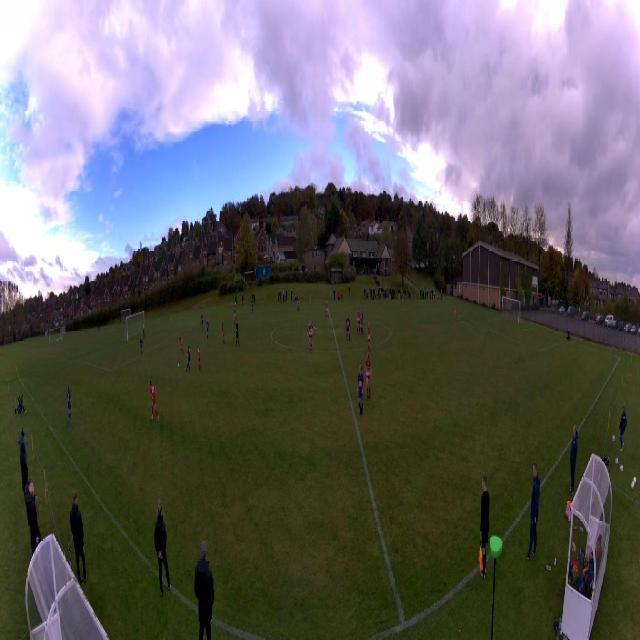ball: (178, 363, 180, 368)
player: (355, 365, 365, 416), (149, 380, 160, 422), (365, 350, 373, 400), (307, 321, 317, 351), (67, 384, 72, 425), (197, 345, 202, 374), (356, 308, 361, 335), (346, 315, 351, 340), (186, 345, 190, 372), (236, 321, 240, 348), (360, 308, 364, 335), (367, 322, 371, 349), (179, 333, 184, 354), (221, 324, 225, 344), (200, 311, 204, 331), (233, 307, 237, 326), (139, 336, 143, 355), (325, 301, 329, 319), (206, 319, 209, 341), (454, 307, 457, 325), (142, 321, 145, 339), (297, 296, 300, 312), (251, 298, 253, 313)
